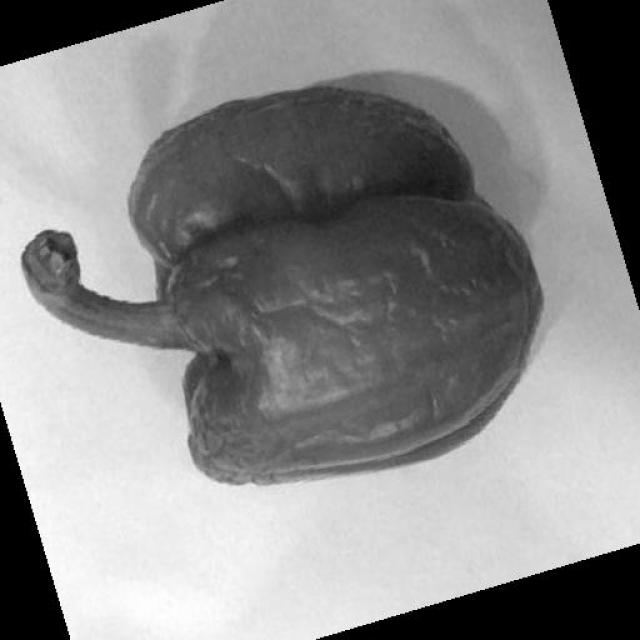Stale_Capsicum: (69, 117, 542, 485)
